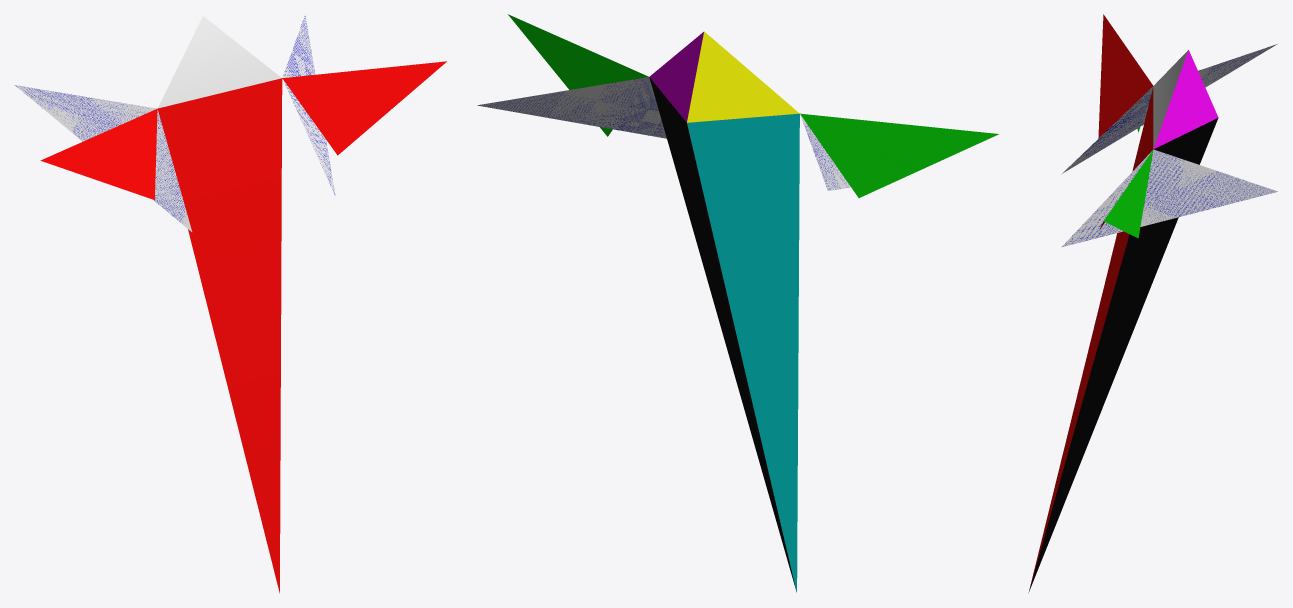
The model's file is spaceship.dae.
The picture shows the model from 3 angles, left to right: view 1: azimuth 30°, elevation 25°; view 2: azimuth 150°, elevation 25°; view 3: azimuth 270°, elevation 25°; orthographic projection. The views are drawn at different scales.
Visible parts, largest first — view 1: SketchUp (×6); view 2: SketchUp (×8); view 3: SketchUp (×8).
Boxes of the visible parts, <box> form: SketchUp (×6): <box>15,14,446,593</box>; SketchUp (×8): <box>477,14,998,592</box>; SketchUp (×8): <box>1029,14,1277,591</box>.
Size of the model in its own units: 98 by 50 by 120.
